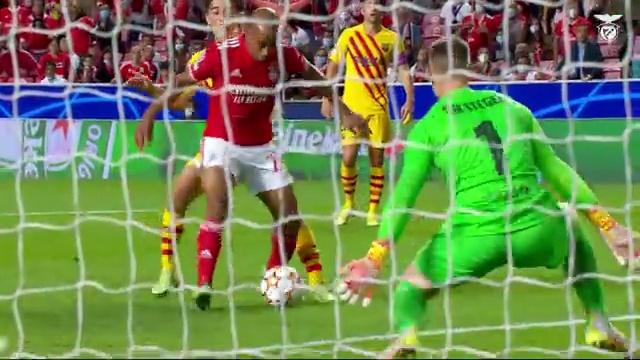football: (260, 266, 302, 306)
player: (338, 36, 626, 357), (176, 8, 324, 308), (326, 0, 413, 225), (152, 153, 201, 295)
